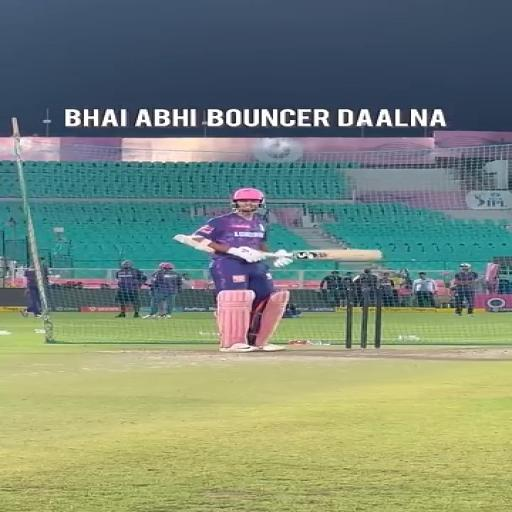Cricket bat: (265, 250, 381, 262)
